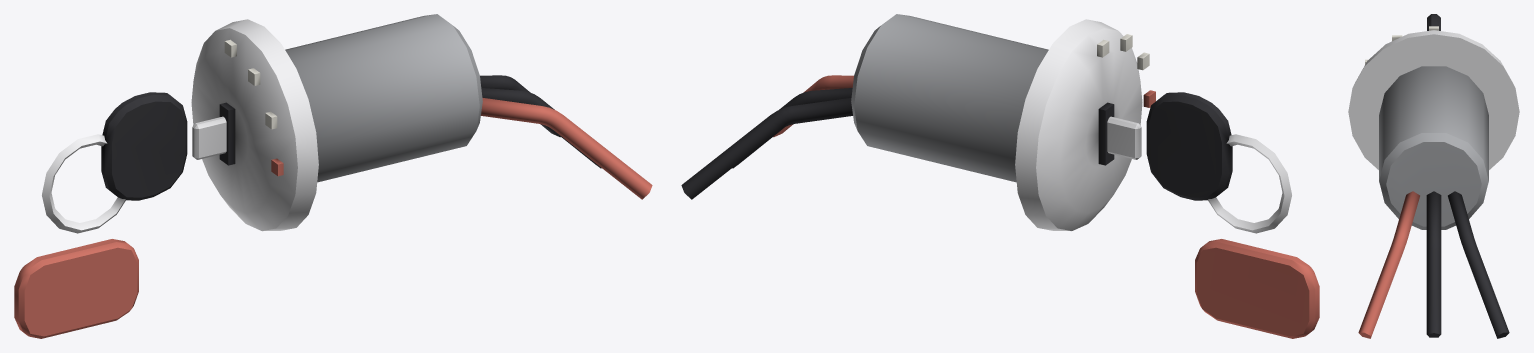
File: ign_key.glb
3 renders of one model, left to right at view 1: azimuth 30°, elevation 25°; view 2: azimuth 150°, elevation 25°; view 3: azimuth 270°, elevation 25°, orthographic. The views are drawn at different scales.
Visible parts, largest first — view 1: PART, KEY; view 2: PART, KEY; view 3: PART, KEY.
Boxes of the visible parts, left/top/right/bottom form: PART: left=191, top=14, right=652, bottom=231; KEY: left=14, top=92, right=226, bottom=338; PART: left=681, top=14, right=1155, bottom=231; KEY: left=1107, top=92, right=1319, bottom=338; PART: left=1348, top=26, right=1519, bottom=338; KEY: left=1427, top=14, right=1440, bottom=30.
Size of the model in its own units: 0.1576 by 0.065 by 0.05.
